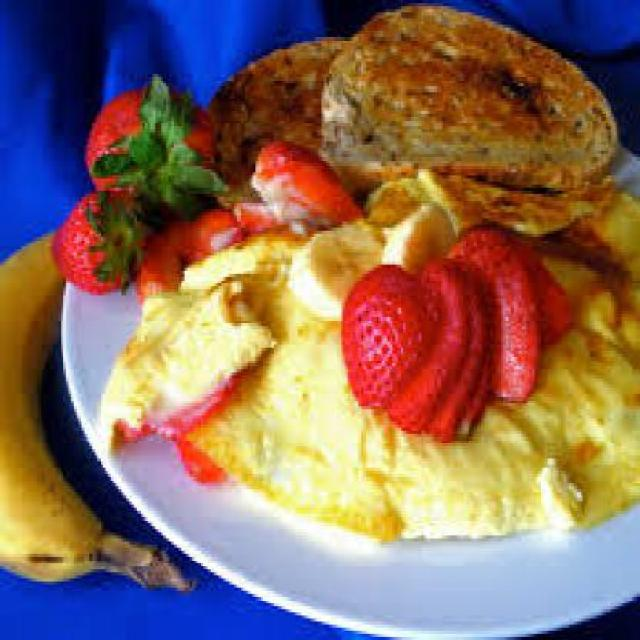omelette: (89, 172, 637, 536)
